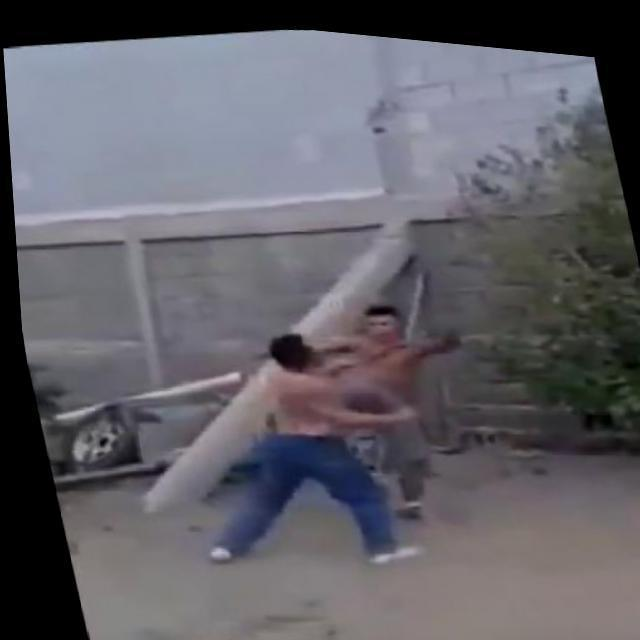fight: (175, 274, 470, 587)
